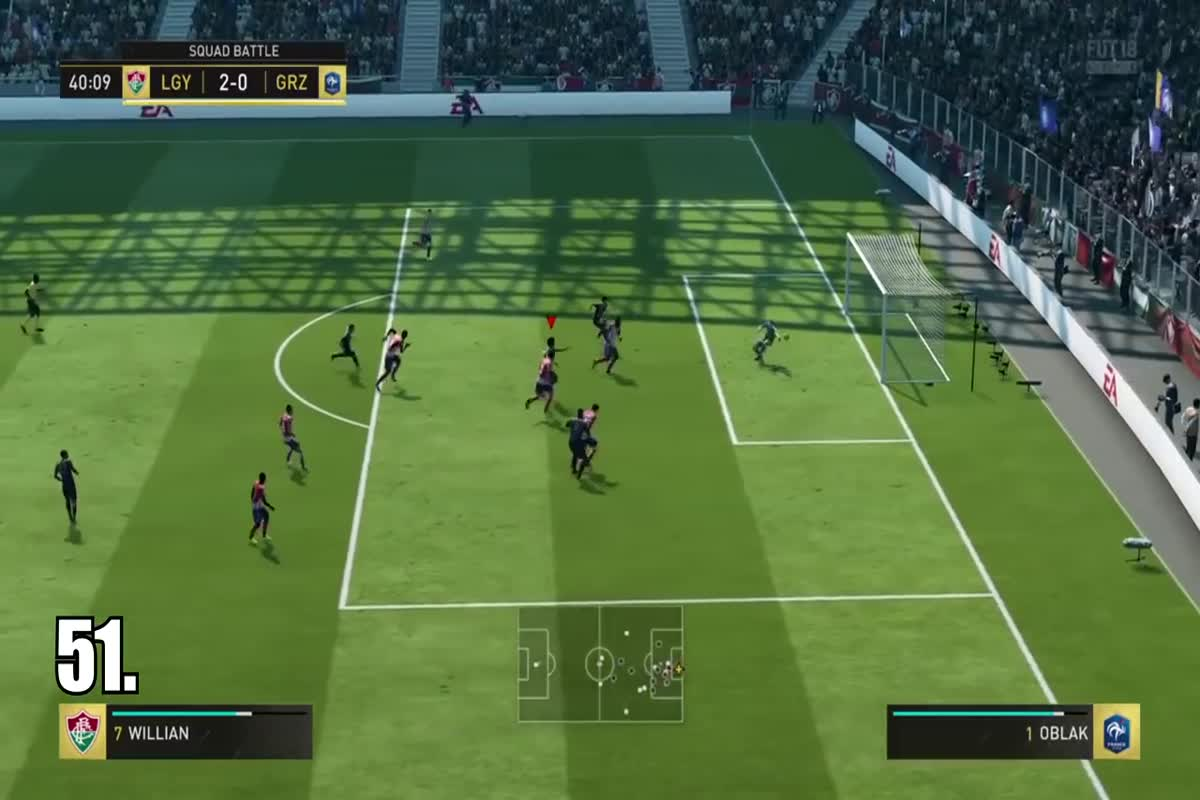ball: (780, 326, 805, 343)
